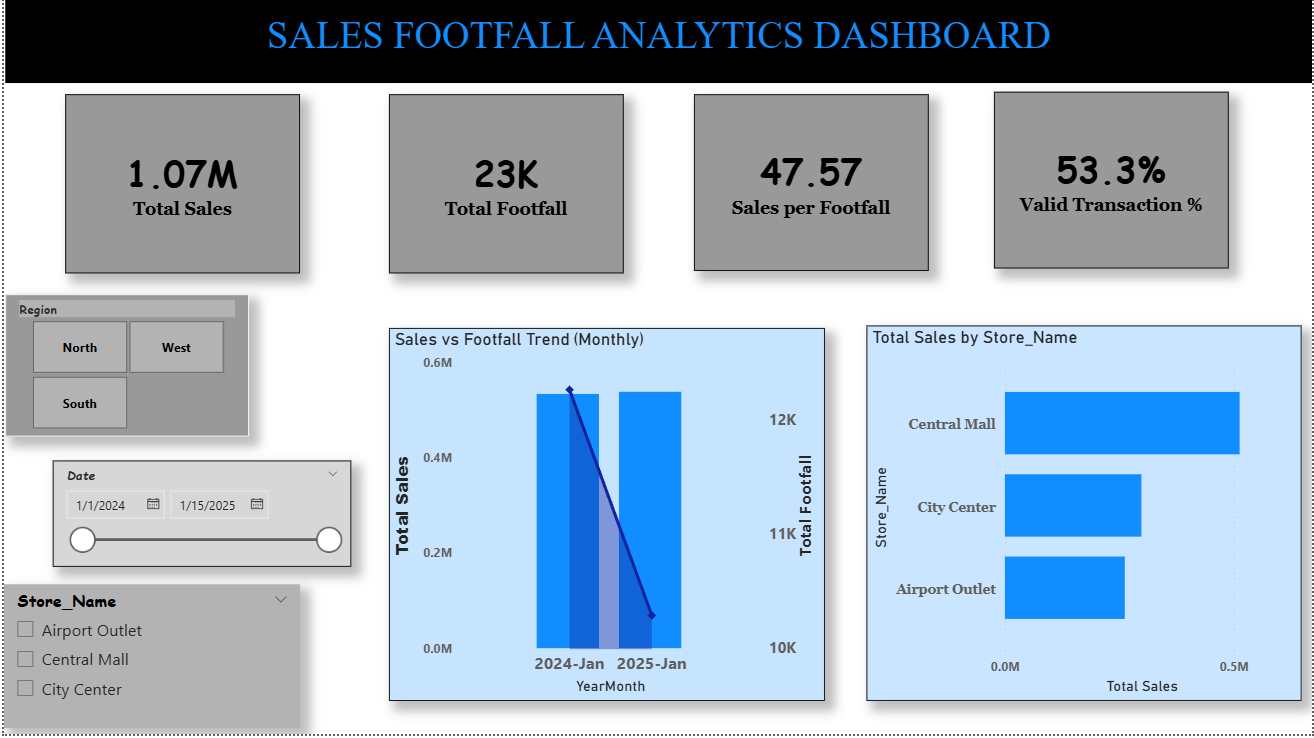

What the dashboard file says about the page in this screenshot:
{"tool":"powerbi","page":{"name":"Executive Summary","canvas":[1280,720],"ordinal":0},"visuals":[{"type":"card","fields":{"Values":["Measures (2).Total Sales"]},"box":[1.7,0,291.4,218.6],"z":0},{"type":"card","fields":{"Values":["Measures (2).Total Footfall"]},"box":[340,0,291.4,218.6],"z":1000},{"type":"card","fields":{"Values":["Measures (2).Sales per Footfall"]},"box":[674.3,1.4,291.4,218.6],"z":2000},{"type":"card","fields":{"Values":["Measures (2).Valid Transaction %"]},"box":[1002.9,0,277.1,218.6],"z":3000},{"type":"slicer","fields":{"Values":["DimDate.Date"]},"box":[4.6,612.3,347.1,104.3],"z":4000},{"type":"slicer","fields":{"Values":["DimStore.Region"]},"box":[0,227.1,296,215.7],"z":5000},{"type":"slicer","fields":{"Values":["DimStore.Store_Name"]},"box":[5.1,462.6,290,140],"z":6000},{"type":"lineClusteredColumnComboChart","title":"Sales vs Footfall Trend (Monthly)","fields":{"Y":["Measures (2).Total Sales"],"Category":["DimDate.YearMonth"],"Y2":["Measures (2).Total Footfall"]},"box":[376.7,280,426.7,365],"z":7000},{"type":"clusteredBarChart","fields":{"Y":["Measures (2).Total Sales"],"Category":["DimStore.Store_Name"]},"box":[836.7,280,425,366.7],"z":8000}]}

Visuals, with their boxes in screenshot pixels (x1, y1, x2, y2), scaled from the page's 1280x720 canvas onto the 1314x738 screenshot:
card - Measures (2).Total Sales: Rect(2, 0, 301, 224)
card - Measures (2).Total Footfall: Rect(349, 0, 648, 224)
card - Measures (2).Sales per Footfall: Rect(692, 1, 991, 225)
card - Measures (2).Valid Transaction %: Rect(1030, 0, 1313, 224)
slicer - DimDate.Date: Rect(5, 628, 361, 735)
slicer - DimStore.Region: Rect(0, 233, 304, 454)
slicer - DimStore.Store_Name: Rect(5, 474, 303, 618)
"Sales vs Footfall Trend (Monthly)" lineClusteredColumnComboChart: Rect(387, 287, 825, 661)
clusteredBarChart - Measures (2).Total Sales x DimStore.Store_Name: Rect(859, 287, 1295, 663)
